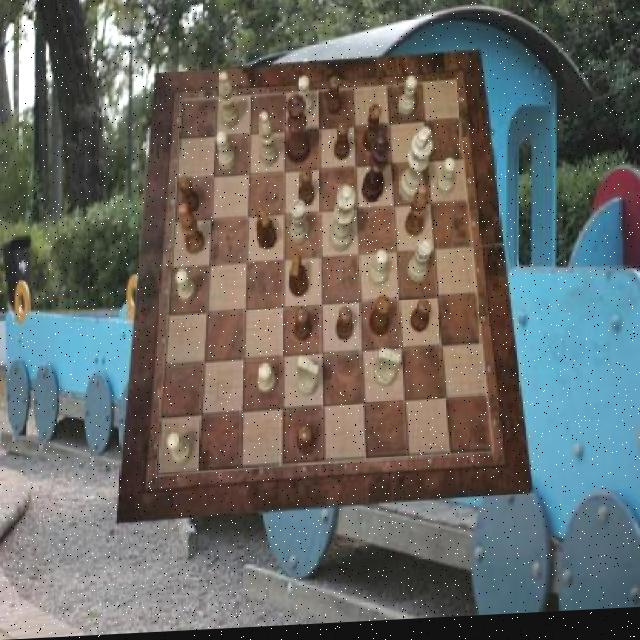bishop: (179, 204, 203, 257), (405, 189, 428, 242)
black-bishop: (360, 135, 389, 207)
black-king: (254, 206, 276, 252), (288, 255, 308, 302)
black-knight: (178, 178, 198, 215), (409, 304, 429, 339), (326, 80, 342, 119), (334, 126, 350, 164), (335, 310, 352, 345), (295, 310, 312, 345), (296, 427, 314, 459), (298, 172, 314, 208)
black-pawn: (286, 96, 309, 168)
black-queen: (368, 299, 391, 342), (362, 109, 382, 156)
black-rook: (218, 75, 238, 132), (257, 113, 277, 169)
white-bishop: (398, 132, 432, 208)
white-king: (374, 351, 402, 392), (296, 360, 319, 400)
white-knight: (166, 433, 191, 467), (398, 80, 417, 121), (217, 134, 236, 173), (368, 254, 388, 290), (174, 271, 194, 305), (438, 163, 455, 201), (296, 80, 312, 120), (258, 366, 275, 397)
white-pawn: (328, 189, 355, 256)
white-queen: (406, 242, 431, 287), (290, 203, 309, 249)
